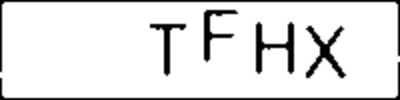F: (199, 7, 241, 65)
H: (250, 19, 303, 75)
T: (146, 20, 191, 80)
X: (301, 23, 349, 82)
